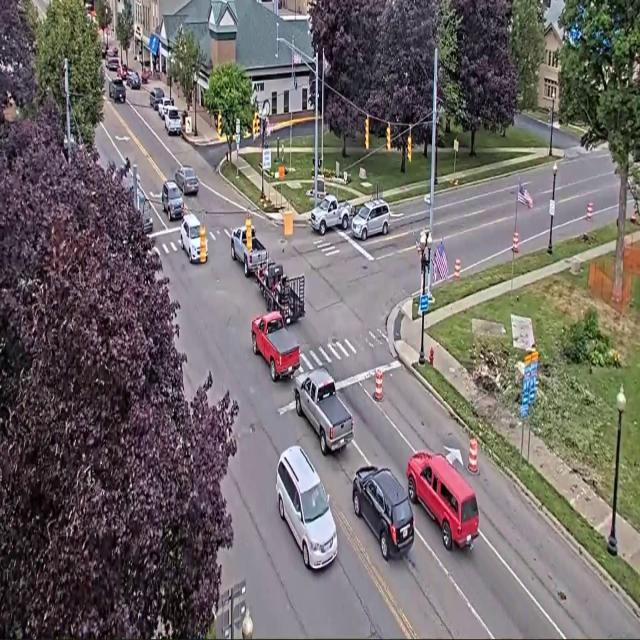car: (276, 446, 337, 569), (407, 452, 478, 550), (352, 466, 414, 560), (351, 200, 390, 240), (180, 214, 202, 263), (161, 181, 183, 220), (175, 166, 198, 194), (164, 106, 181, 135), (157, 96, 173, 119), (149, 87, 165, 110), (126, 69, 142, 90), (117, 63, 129, 81), (106, 57, 120, 72), (101, 43, 109, 59), (107, 47, 118, 57)
traffic signal: (364, 116, 370, 150), (252, 112, 259, 138), (217, 112, 223, 137), (386, 125, 391, 151), (407, 135, 411, 162)
truck: (294, 368, 353, 455), (252, 312, 299, 382), (255, 259, 304, 324), (231, 227, 267, 277), (310, 195, 352, 235), (109, 78, 125, 103)
